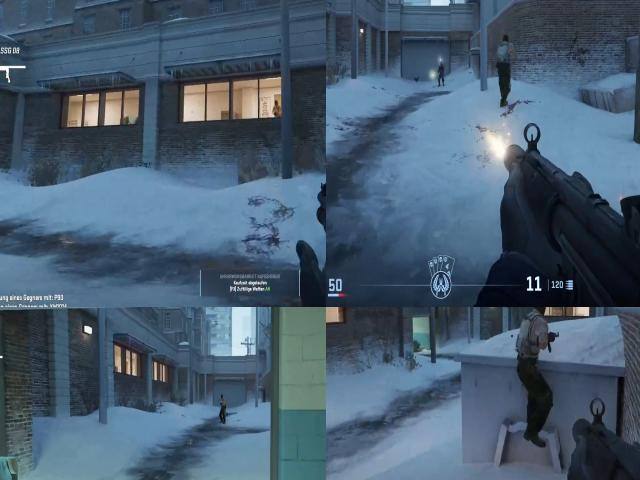CT: (438, 63, 447, 84)
T: (516, 308, 553, 369), (494, 32, 516, 76), (218, 392, 228, 411), (272, 98, 280, 114)
T-Head: (529, 307, 552, 316), (499, 33, 510, 49), (218, 394, 227, 404), (273, 98, 280, 109)
